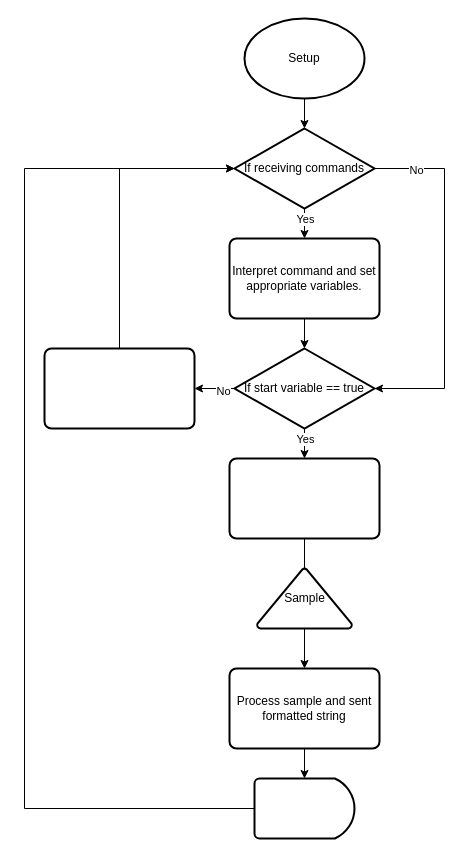
This 470x856 diagram has some shape labels left out. The box of each missing label's shape, as (x1, y1, x2, y2) in pixels:
Set correct PWM signals: (228, 457, 380, 539)
Turn off all PWM signals: (43, 347, 195, 429)
Wait remaining time for specific sample rate: (253, 777, 355, 839)
